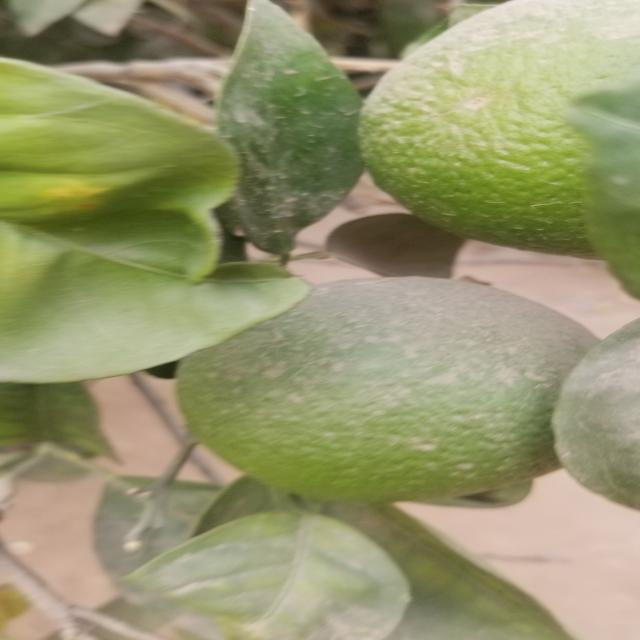Unripe: (186, 276, 568, 495), (359, 2, 640, 265), (545, 318, 640, 512)
